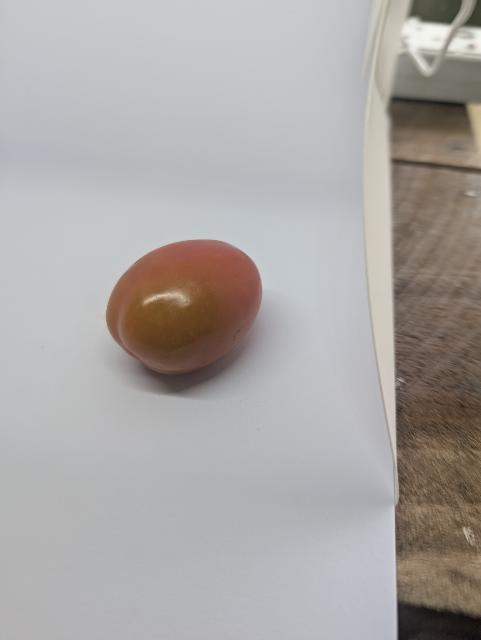turning: (100, 232, 272, 384)
